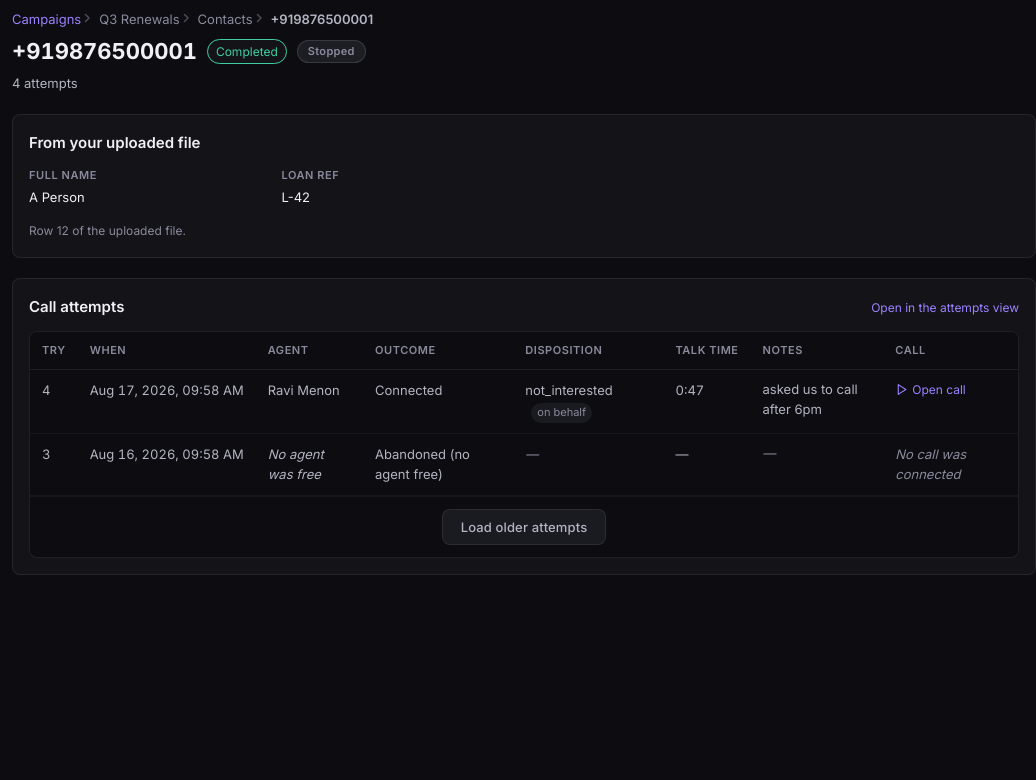
paging the history › retrying after a failure appends rather than reloading the page
Click the button with test id "contact-attempts-more": x=524, y=527 [442,509,606,545]
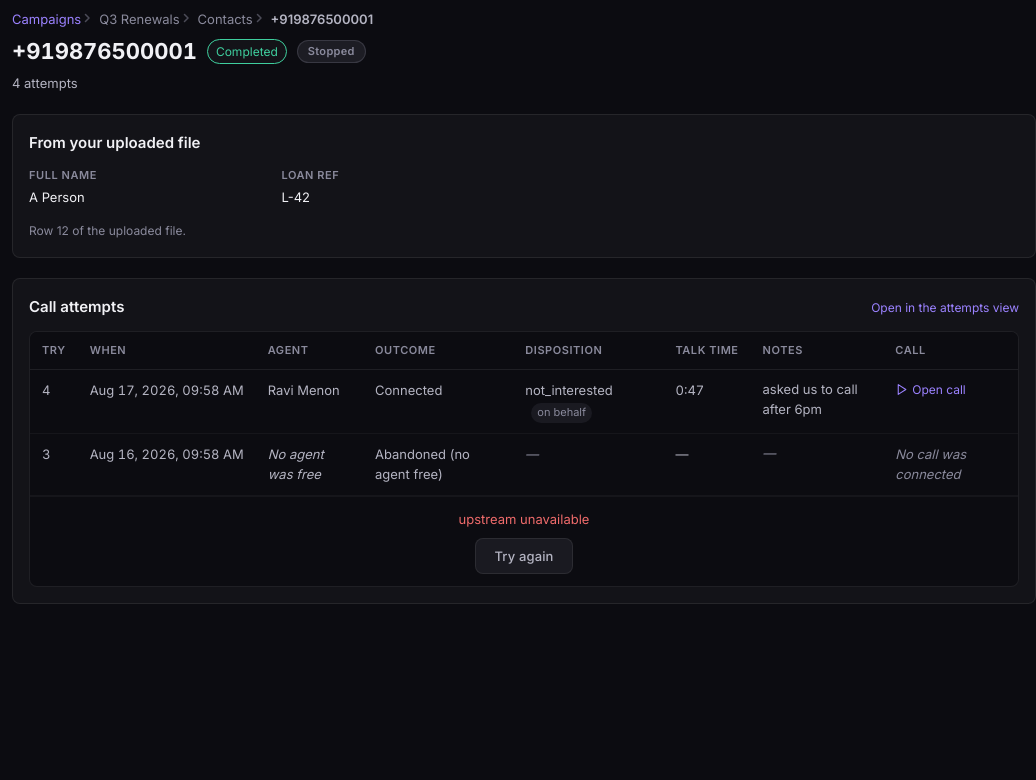
Check: the message "upstream unavailable" is shown, box [459,509,589,530]
Click the button with test id "contact-attempts-more": x=524, y=556 [476,538,572,574]
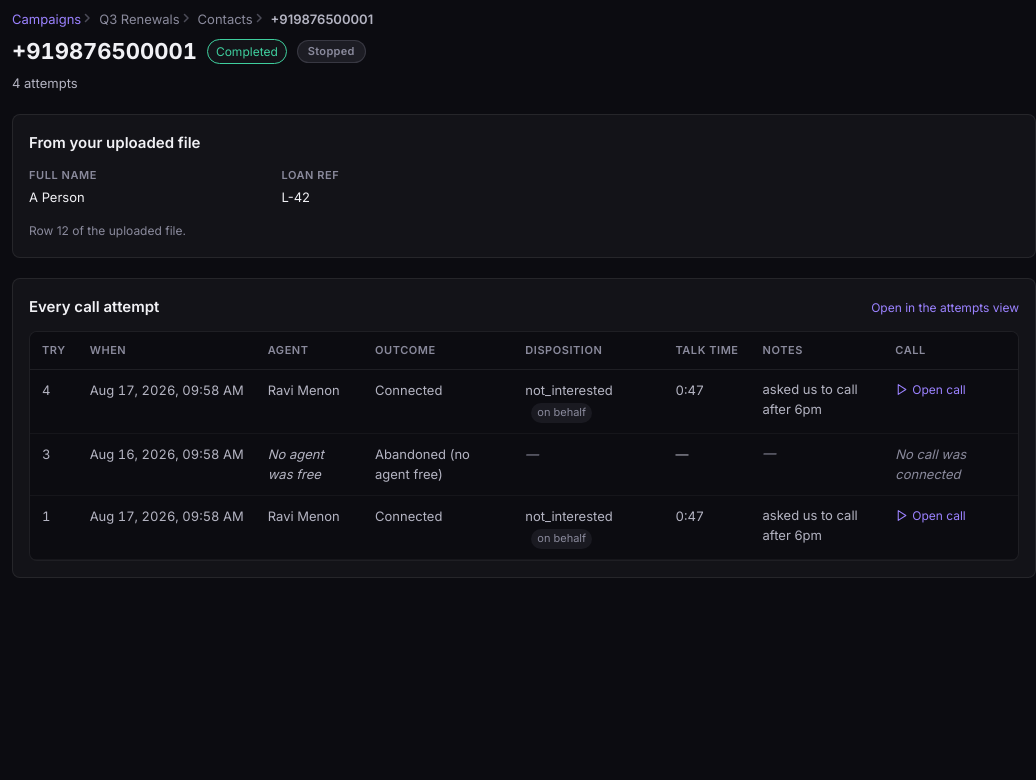
Check: the row with test id "contact-attempt-attempt-1" is shown, box [30,370,1018,433]
Check: the row with test id "contact-attempt-attempt-99" is shown, box [30,496,1018,559]
Check: the message with test id "contact-attempts-more-error" is gone
